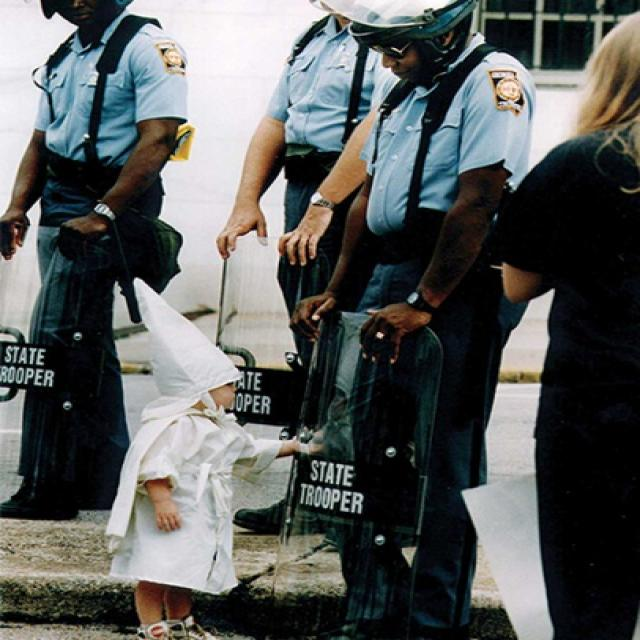body: (290, 0, 538, 640), (0, 0, 198, 525), (498, 10, 640, 640), (102, 274, 324, 640), (211, 0, 399, 375)
